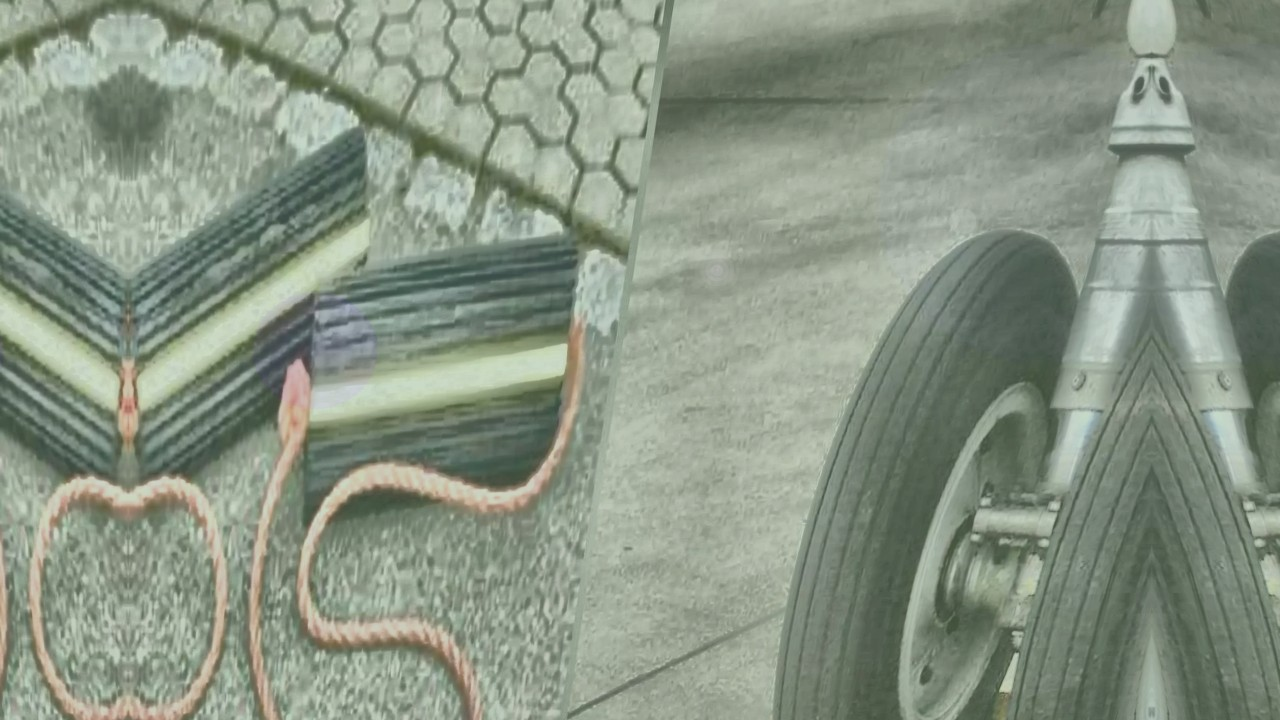chock: (128, 121, 387, 483), (293, 233, 604, 524), (0, 121, 128, 483)
wheel: (746, 223, 1120, 720), (963, 234, 1152, 720), (1152, 234, 1280, 720), (1184, 223, 1280, 720)
